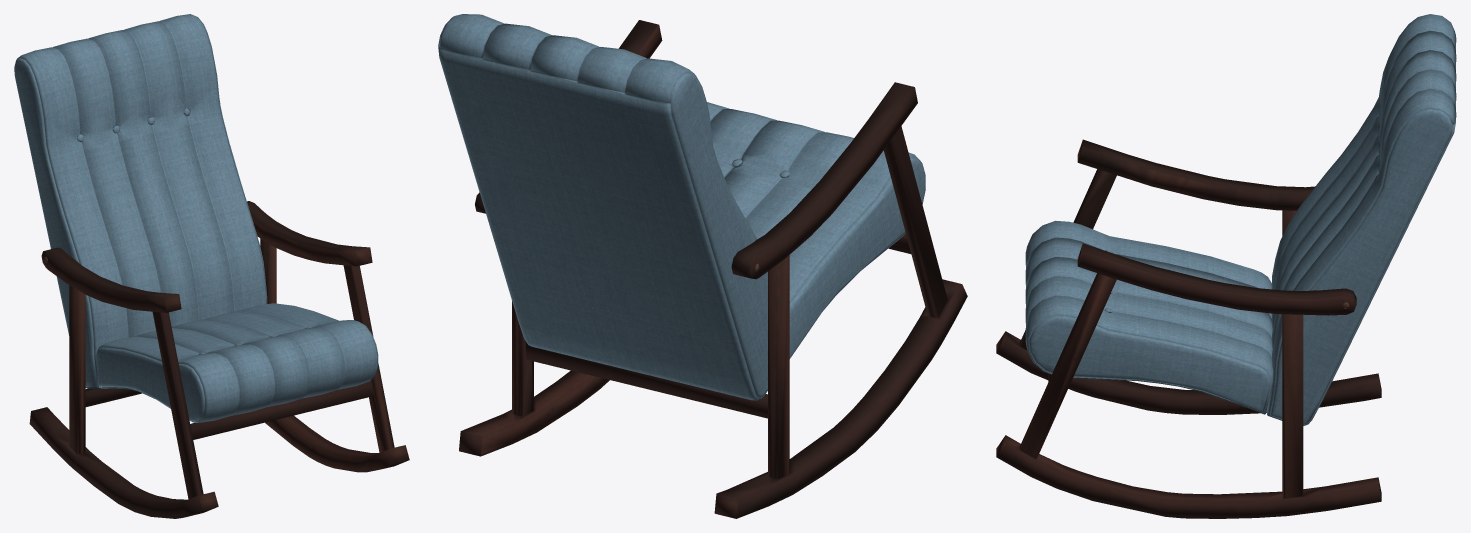
Rendered from rocking-chair-009.glb.
3 views of the same model, side by side, from view 1: azimuth 30°, elevation 25°; view 2: azimuth 150°, elevation 25°; view 3: azimuth 270°, elevation 25° (orthographic). The views are drawn at different scales.
Visible parts, largest first — view 1: rocking-chair-009; view 2: rocking-chair-009; view 3: rocking-chair-009.
Part boxes in pixels (box(x1,y1,x2,y2)): rocking-chair-009: box(14, 14, 409, 518); rocking-chair-009: box(438, 14, 967, 518); rocking-chair-009: box(996, 14, 1456, 518).
Bounding box in the file's own units: 0.6111 × 1.02 × 1.05.
1 material, 1 textured.
